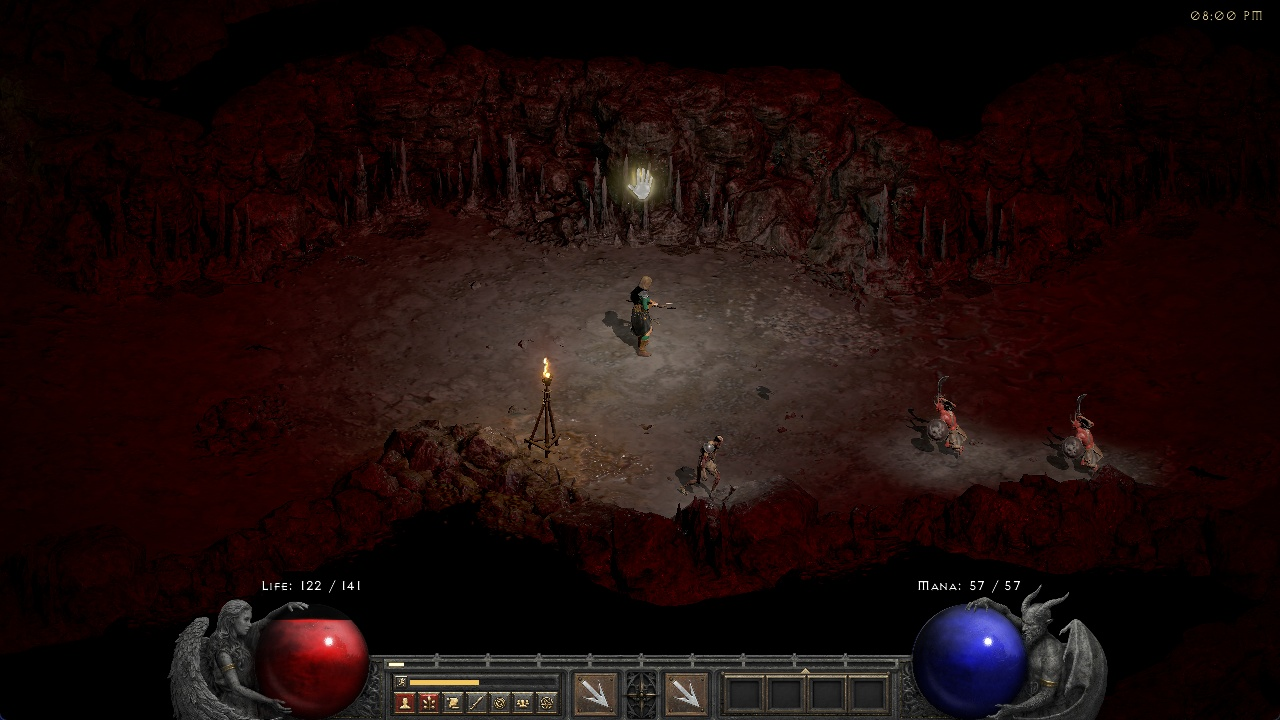fallen: (921, 374, 968, 457), (1058, 389, 1105, 472)
